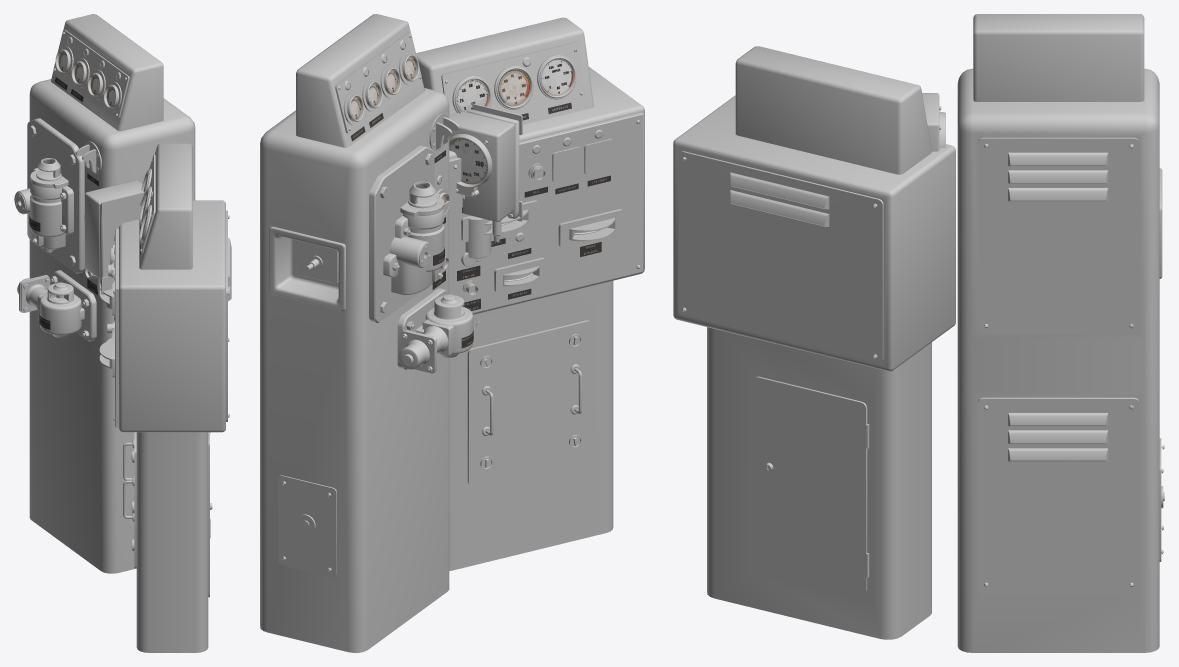
The model's file is de6_controls.fbx.
3 renders of one model, left to right at view 1: azimuth 30°, elevation 25°; view 2: azimuth 150°, elevation 25°; view 3: azimuth 270°, elevation 25°, orthographic. The views are drawn at different scales.
Visible parts, largest first — view 1: control_stand, spedometer, cs_gauges, cs_labels; view 2: control_stand, spedometer, cs_gauges, cs_labels, spedometer_gauge; view 3: control_stand, spedometer.
Boxes of the visible parts, bbox=[...] form: control_stand: bbox=[14, 14, 231, 652]; spedometer: bbox=[84, 180, 144, 309]; cs_gauges: bbox=[58, 51, 147, 234]; cs_labels: bbox=[29, 77, 140, 329]; control_stand: bbox=[260, 14, 644, 652]; spedometer: bbox=[449, 103, 522, 261]; cs_gauges: bbox=[350, 56, 573, 203]; cs_labels: bbox=[350, 102, 610, 348]; spedometer_gauge: bbox=[449, 138, 487, 184]; control_stand: bbox=[673, 14, 1164, 652]; spedometer: bbox=[922, 93, 945, 151].
Bounding box in the file's own units: 57.15 × 152 × 112.
